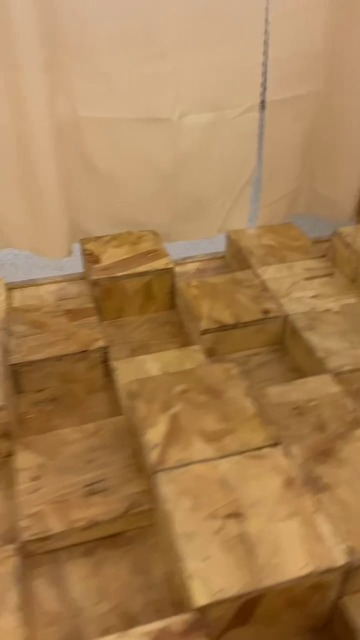curtain: (0, 0, 360, 250)
